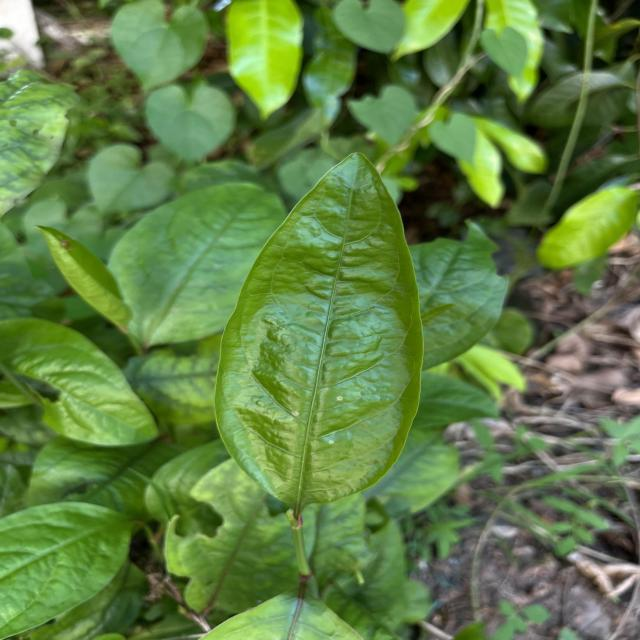Plumbago indica: (208, 152, 430, 514), (104, 181, 285, 347), (0, 311, 163, 450)
